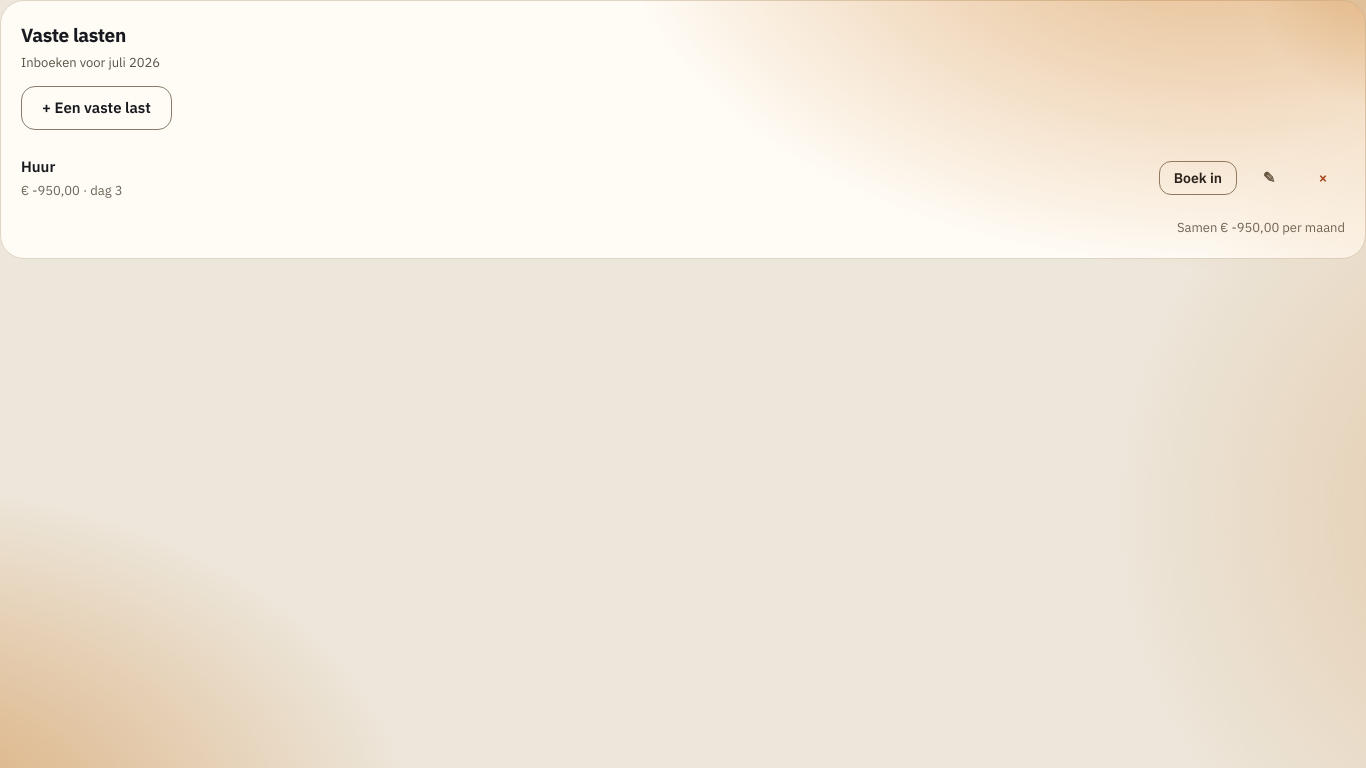
Test: TerugkerendeSectie — het contractformulier › laat een onleesbare opzegtermijn niet stil vallen
Click the button "+ Een vaste last" at point(96, 108), box [21,86,172,130]
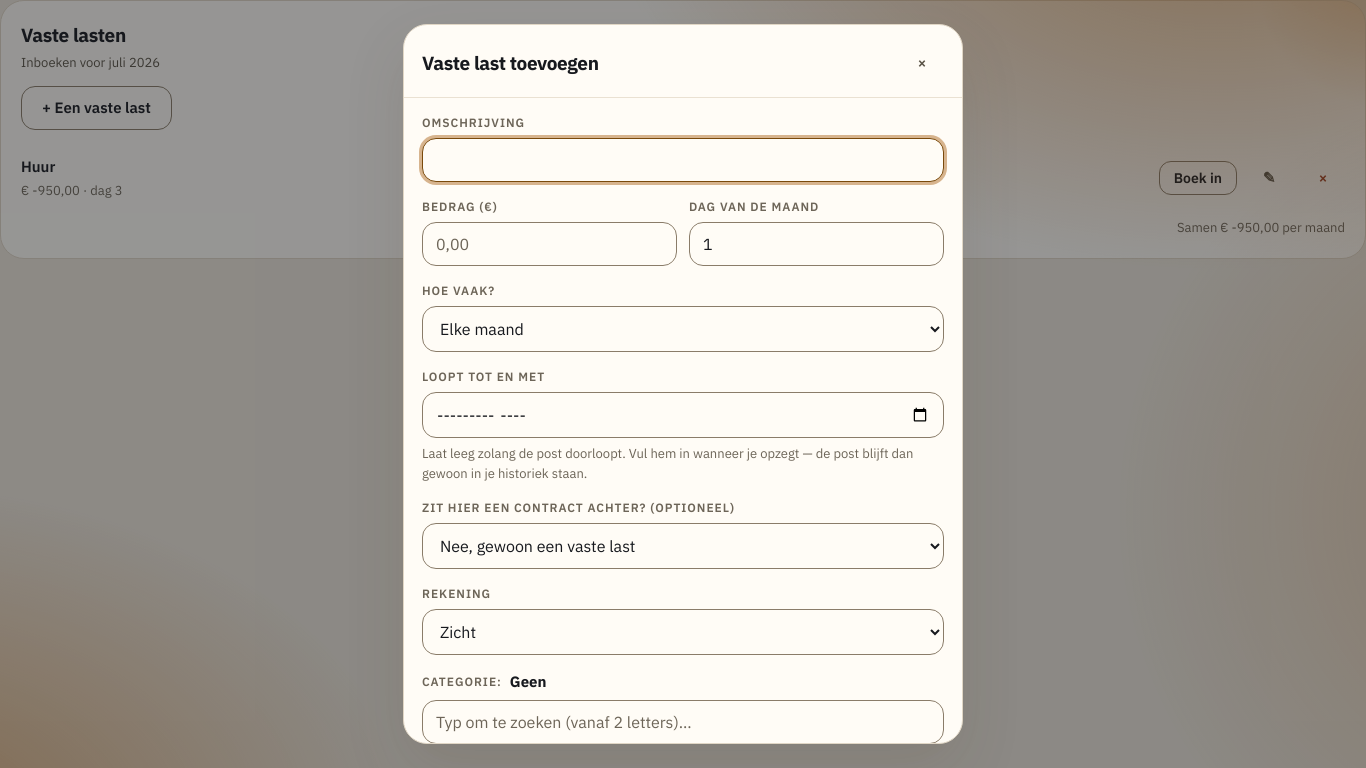
Select "Energie (elektriciteit of gas)" in the dropdown labelled "Zit hier een contract achter? (optioneel)" at point(683, 546), box [422,523,944,569]
(page scrolled)
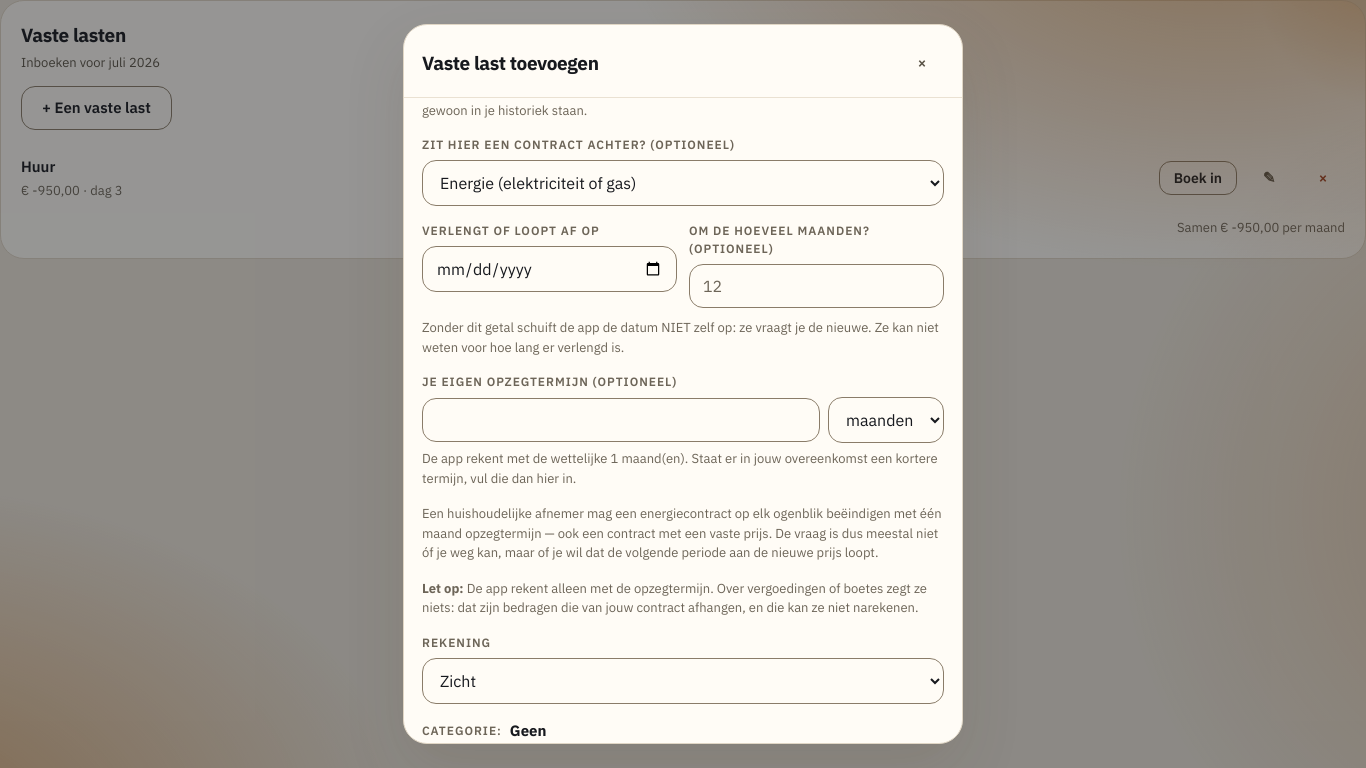
Type "3abc" into the field labelled "Je eigen opzegtermijn (optioneel)" at point(621, 420), box [422,398,820,442]
(page scrolled)
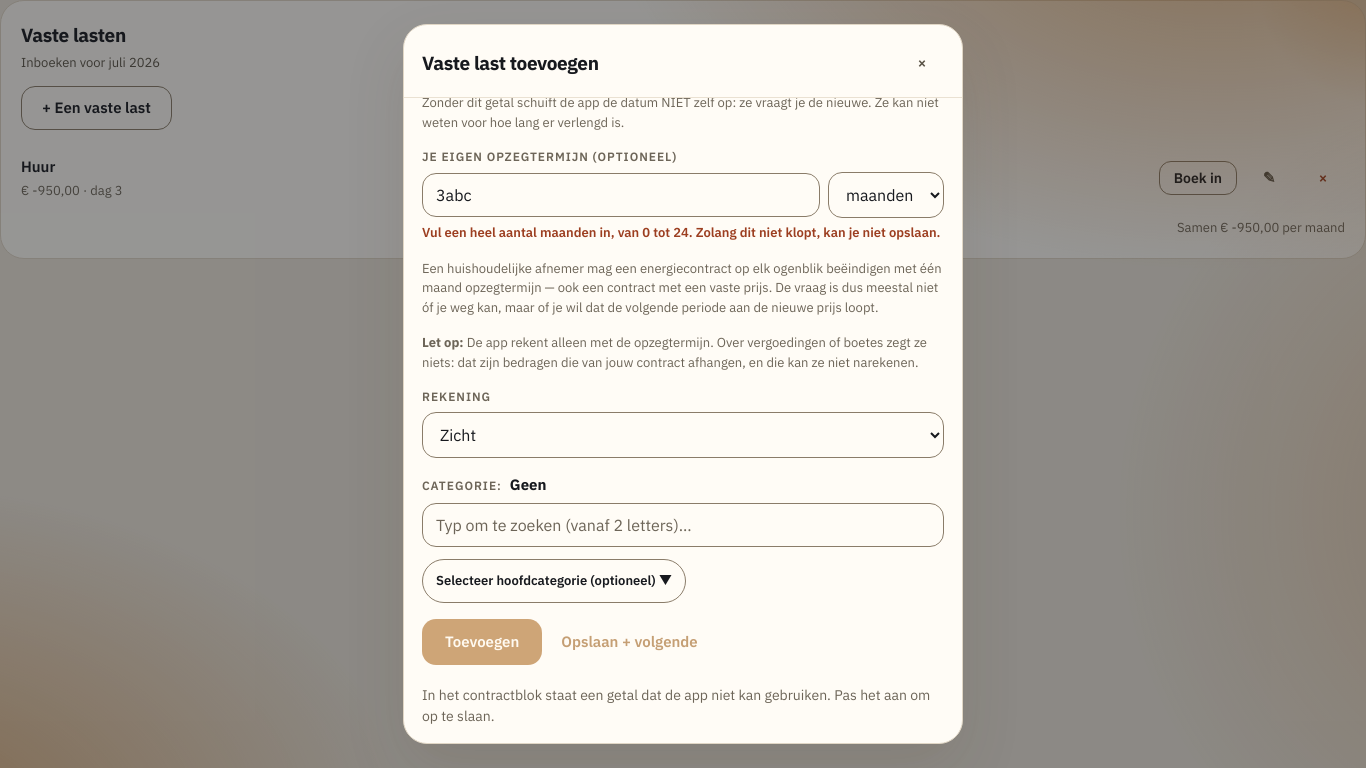
Check: the text "Vul een heel aantal maanden in, van 0 tot 24" is shown, box [422,224,940,241]
Check: the text "contractblok staat een getal dat de app niet kan gebruiken" is shown, box [422,686,930,725]
